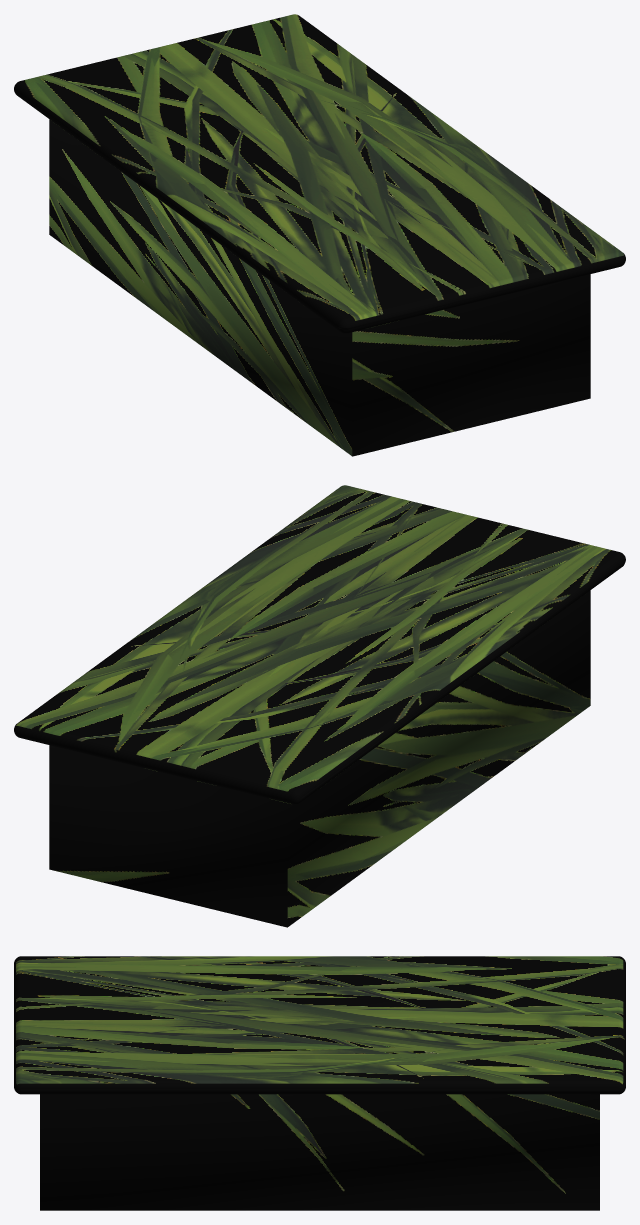
The model's file is table.gltf.
The picture shows the model from 3 angles, top to bottom: view 1: azimuth 30°, elevation 25°; view 2: azimuth 150°, elevation 25°; view 3: azimuth 270°, elevation 25°; orthographic projection. The views are drawn at different scales.
Visible parts, largest first — view 1: baked; view 2: baked; view 3: baked.
Part boxes in pixels (box(x1,y1,x2,y2)): baked: box(14, 14, 625, 456); baked: box(14, 485, 625, 927); baked: box(14, 956, 625, 1210).
Size of the model in its own units: 2 by 1 by 4.
